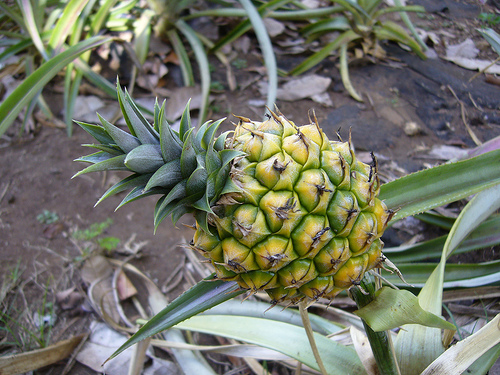pineapple: (67, 71, 401, 313)
